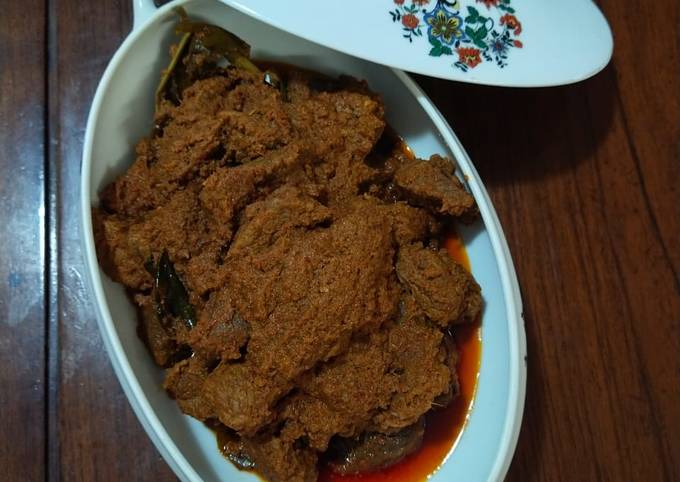rendang: (96, 29, 517, 472)
